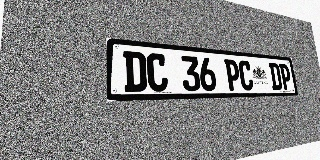3: (181, 55, 201, 91)
6: (198, 57, 217, 91)
C: (146, 53, 168, 92), (238, 60, 254, 91)
D: (123, 51, 147, 92), (268, 63, 283, 90)
P: (224, 59, 241, 91), (279, 64, 292, 90)
